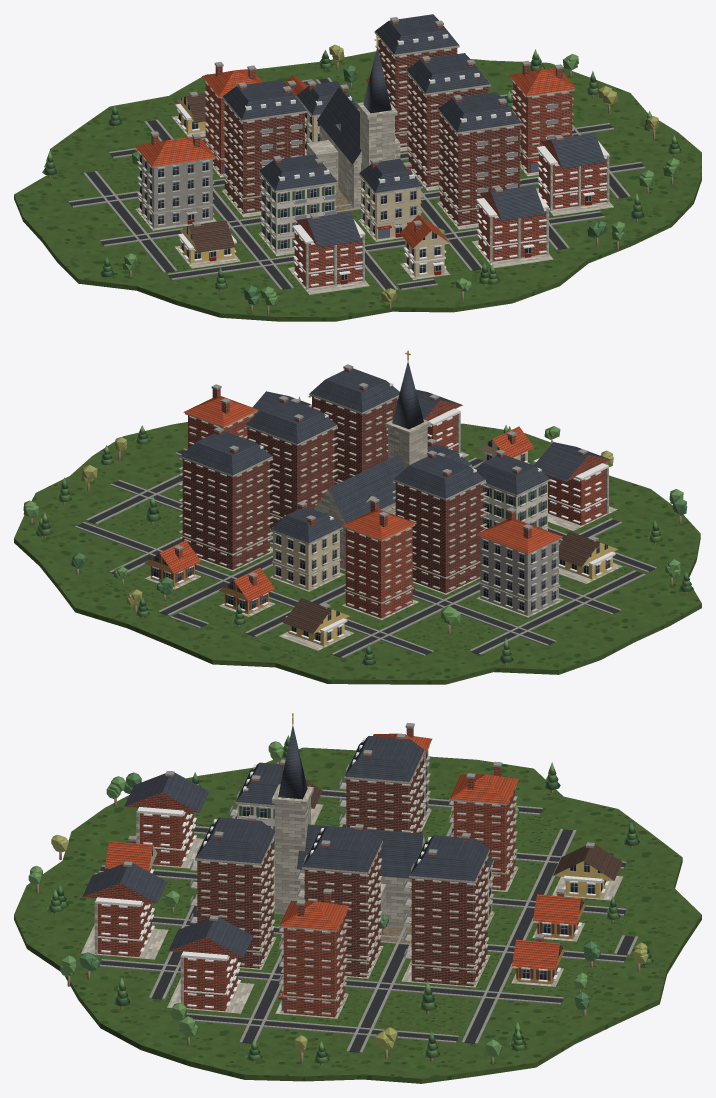
Rendered from city_west_large.gltf.
3 views of the same model, one above another, from view 1: azimuth 30°, elevation 25°; view 2: azimuth 150°, elevation 25°; view 3: azimuth 270°, elevation 25° (orthographic). The views are drawn at different scales.
Visible parts, largest first — view 1: city_west_large; view 2: city_west_large; view 3: city_west_large.
Boxes of the visible parts, x1=… form: city_west_large: x1=14, y1=14, x2=701, y2=321; city_west_large: x1=14, y1=350, x2=701, y2=684; city_west_large: x1=14, y1=713, x2=701, y2=1083.
Bounding box in the file's own units: 4.46 × 1.39 × 3.91.
Materials: 24 (16 with a texture image).
